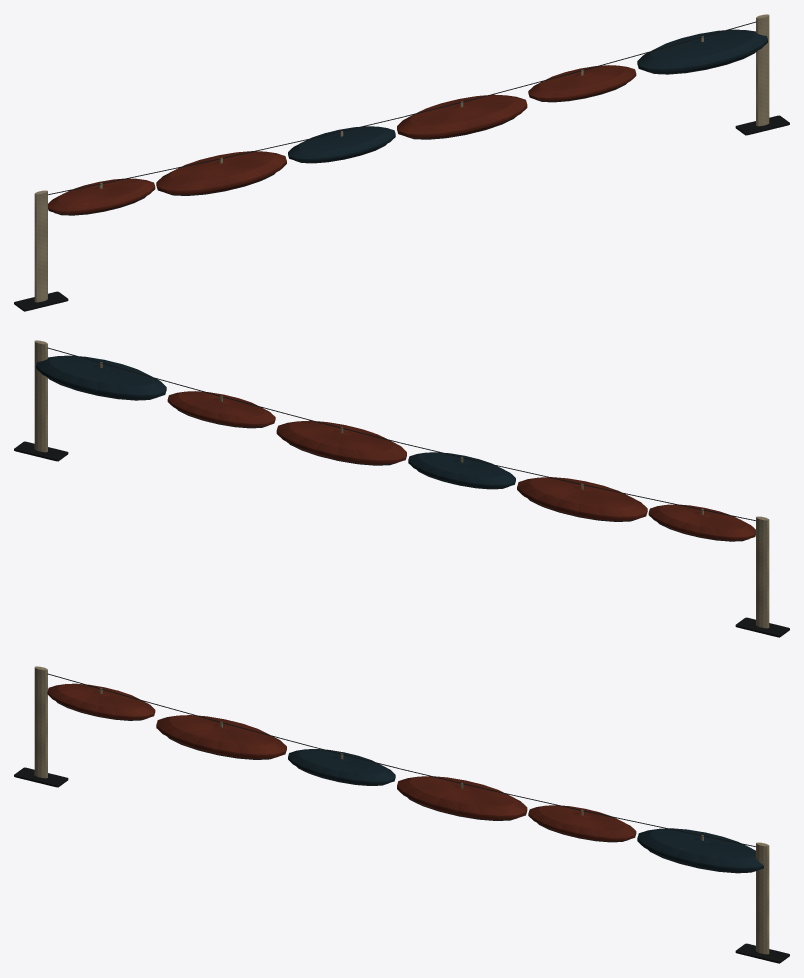
Rendered from lantern-string.glb.
3 renders of one model, top to bottom at view 1: azimuth 30°, elevation 25°; view 2: azimuth 150°, elevation 25°; view 3: azimuth 330°, elevation 25°, orthographic.
Parts seen in each view (by area): view 1: lantern-string-paper-lantern-strip_3, lantern-string-paper-lantern-strip_2, lantern-string-paper-lantern-strip_4, lantern-string-paper-lantern-strip_0, lantern-string-paper-lantern-strip_1; view 2: lantern-string-paper-lantern-strip_3, lantern-string-paper-lantern-strip_2, lantern-string-paper-lantern-strip_4, lantern-string-paper-lantern-strip_0, lantern-string-paper-lantern-strip_1; view 3: lantern-string-paper-lantern-strip_3, lantern-string-paper-lantern-strip_2, lantern-string-paper-lantern-strip_4, lantern-string-paper-lantern-strip_0, lantern-string-paper-lantern-strip_1.
Boxes of the visible parts, x1,y1,x2,y2 form: lantern-string-paper-lantern-strip_3: [156, 65, 636, 195]; lantern-string-paper-lantern-strip_2: [48, 94, 527, 214]; lantern-string-paper-lantern-strip_4: [288, 29, 767, 162]; lantern-string-paper-lantern-strip_0: [34, 14, 769, 302]; lantern-string-paper-lantern-strip_1: [14, 21, 789, 311]; lantern-string-paper-lantern-strip_3: [167, 391, 647, 521]; lantern-string-paper-lantern-strip_2: [276, 420, 755, 540]; lantern-string-paper-lantern-strip_4: [36, 355, 515, 488]; lantern-string-paper-lantern-strip_0: [34, 340, 769, 628]; lantern-string-paper-lantern-strip_1: [14, 347, 789, 637]; lantern-string-paper-lantern-strip_3: [156, 715, 636, 841]; lantern-string-paper-lantern-strip_2: [47, 683, 527, 820]; lantern-string-paper-lantern-strip_4: [288, 749, 763, 872]; lantern-string-paper-lantern-strip_0: [34, 666, 769, 954]; lantern-string-paper-lantern-strip_1: [14, 673, 789, 963].
Size of the model in its own units: 8 by 1.1 by 0.55.
4 materials, 4 textured.
